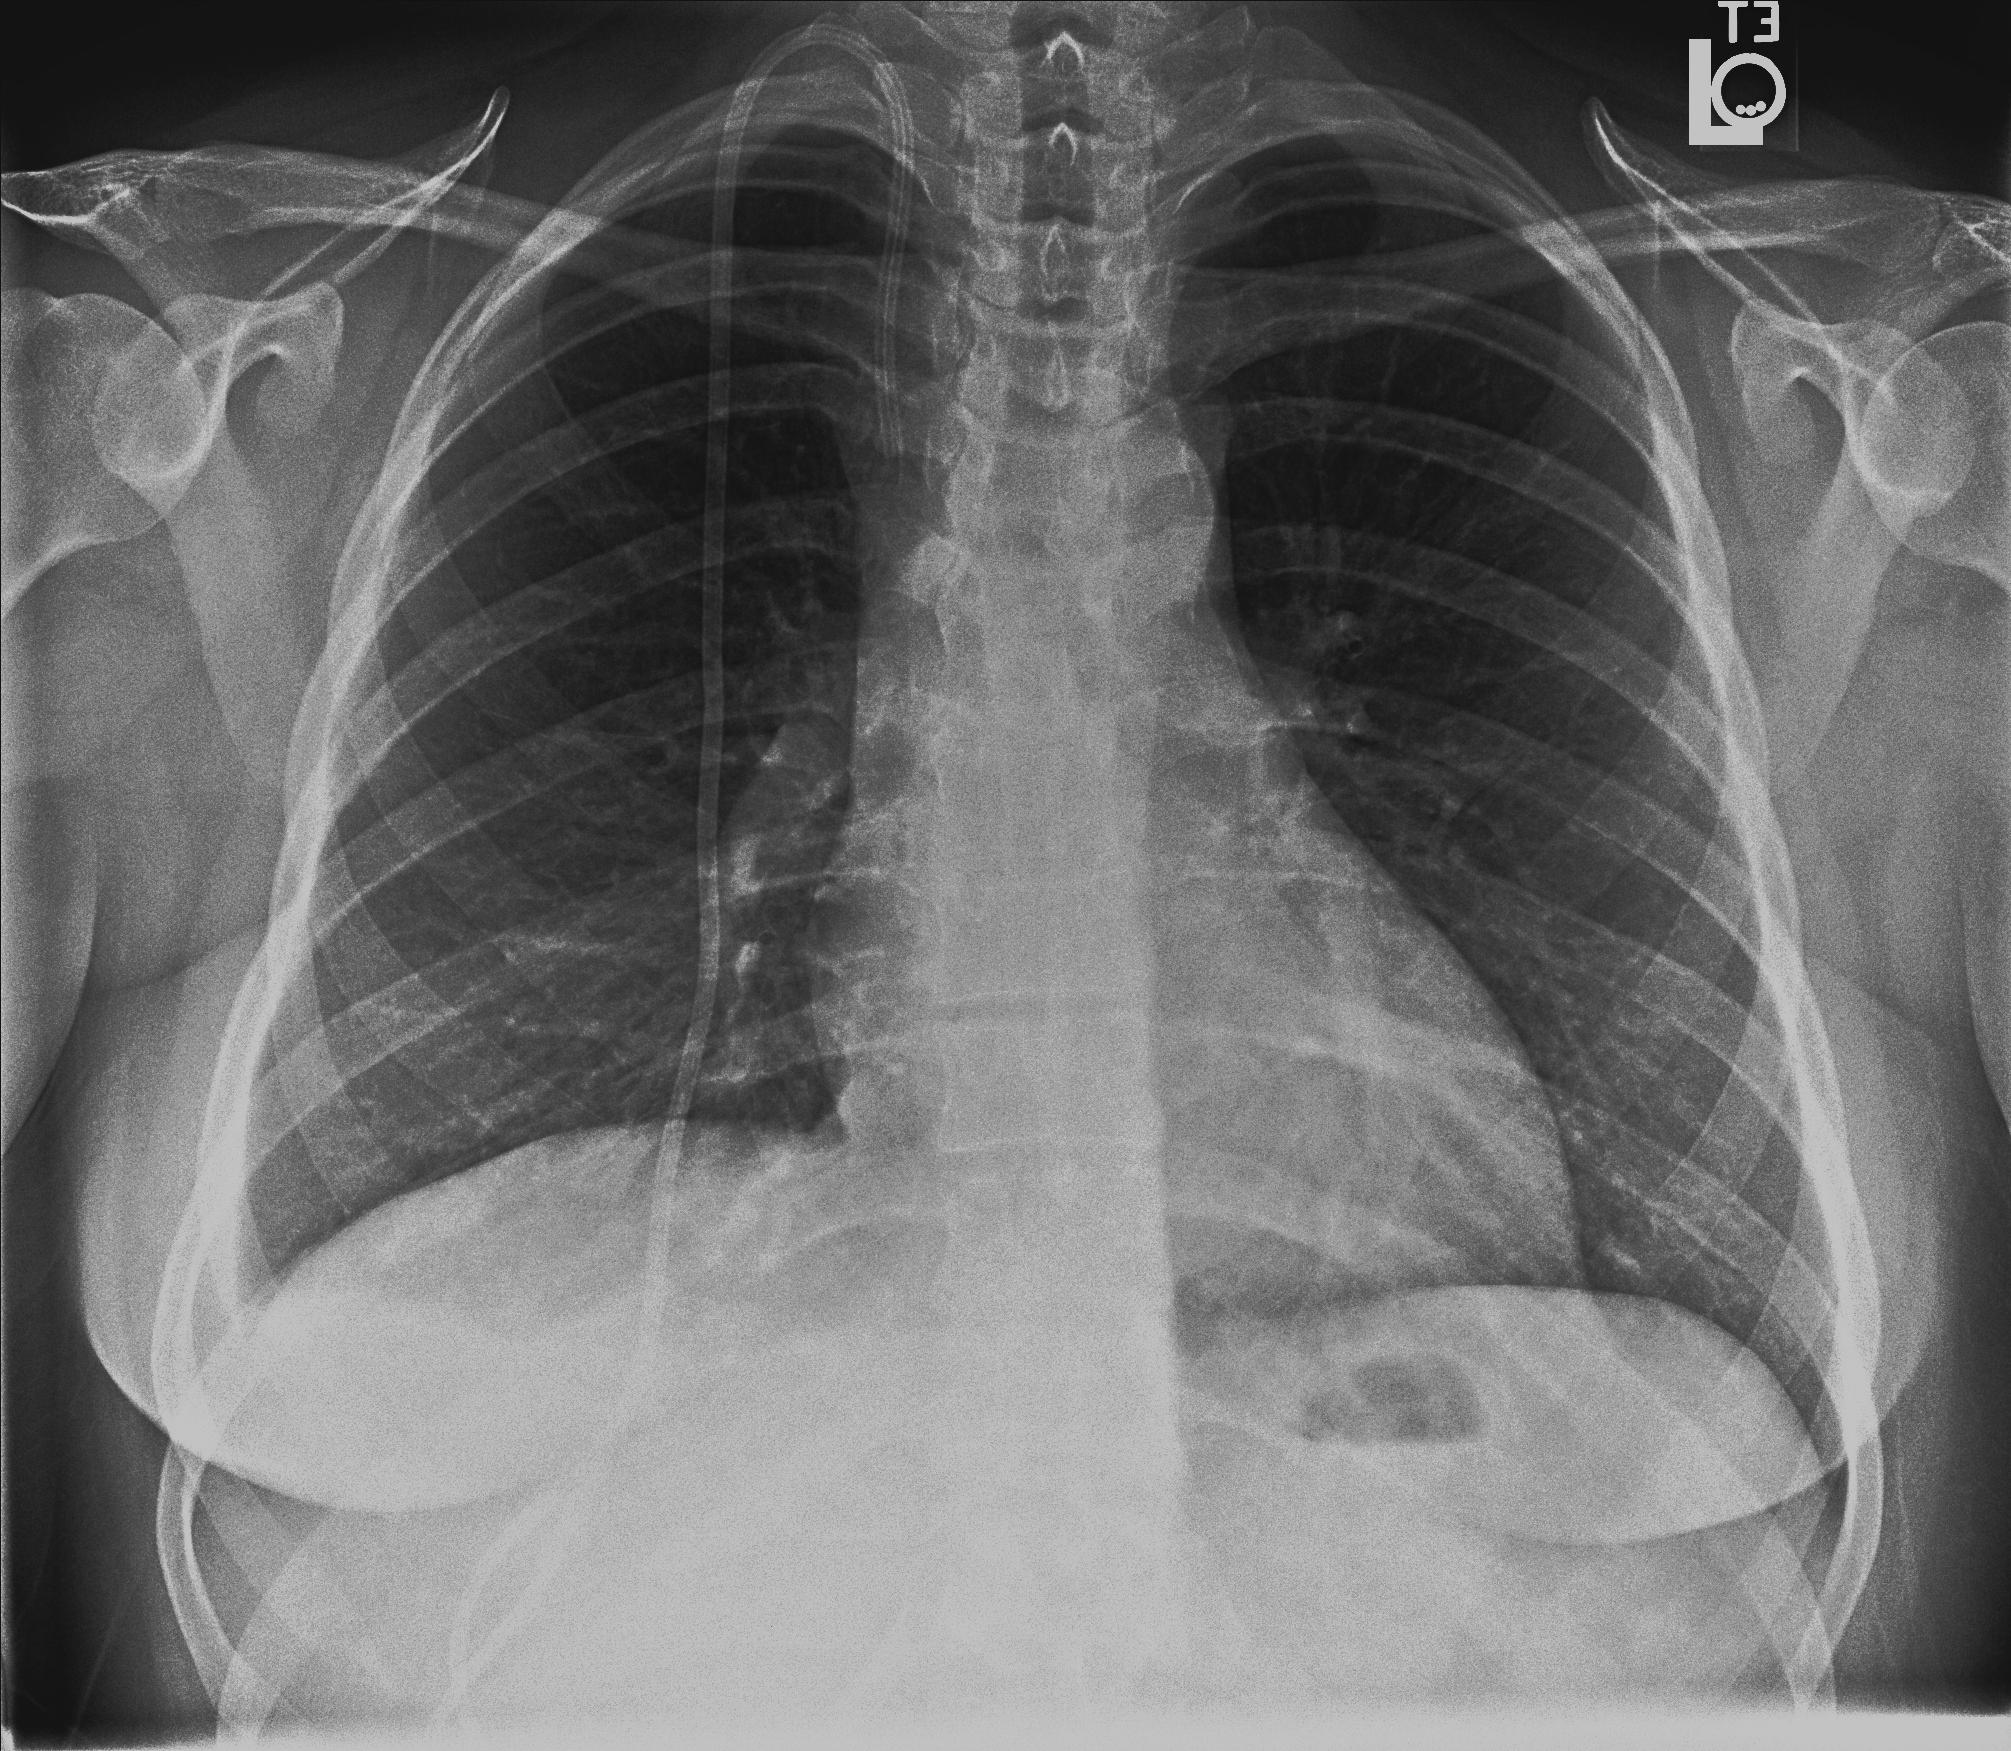Pleural Effusion: (128, 1259, 561, 1453)
